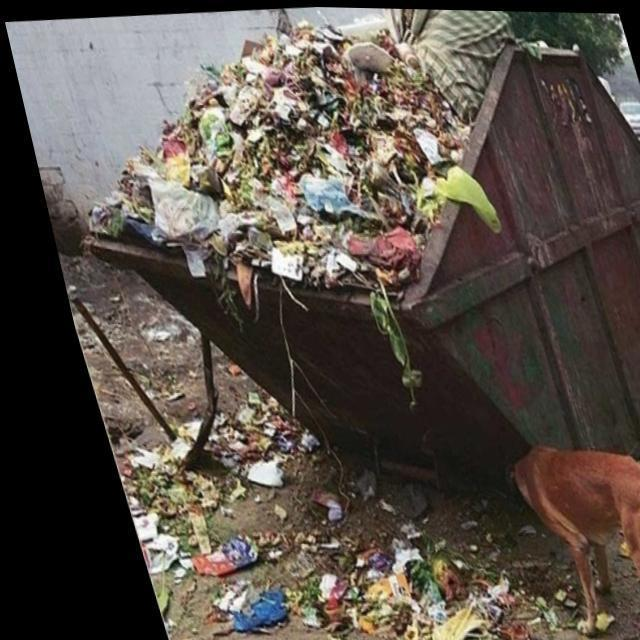Garbage: (78, 7, 513, 400)
Plastic_Bag: (408, 162, 491, 231), (140, 179, 209, 240), (291, 173, 368, 215)
